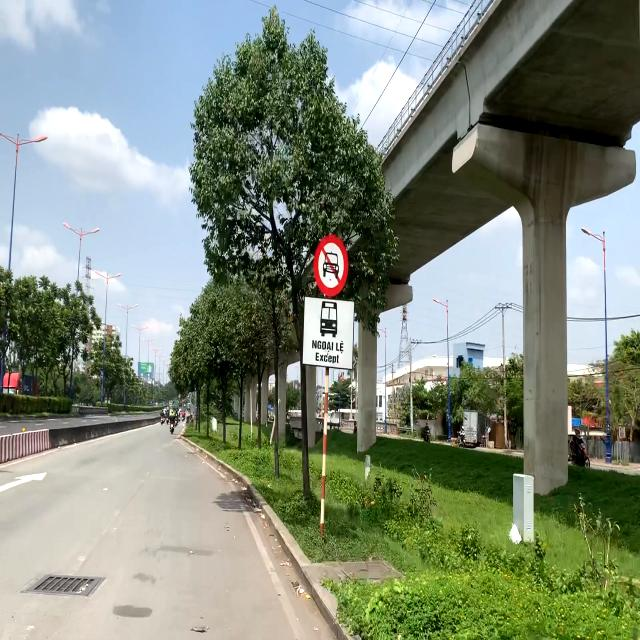P.103a: (312, 235, 352, 302)
